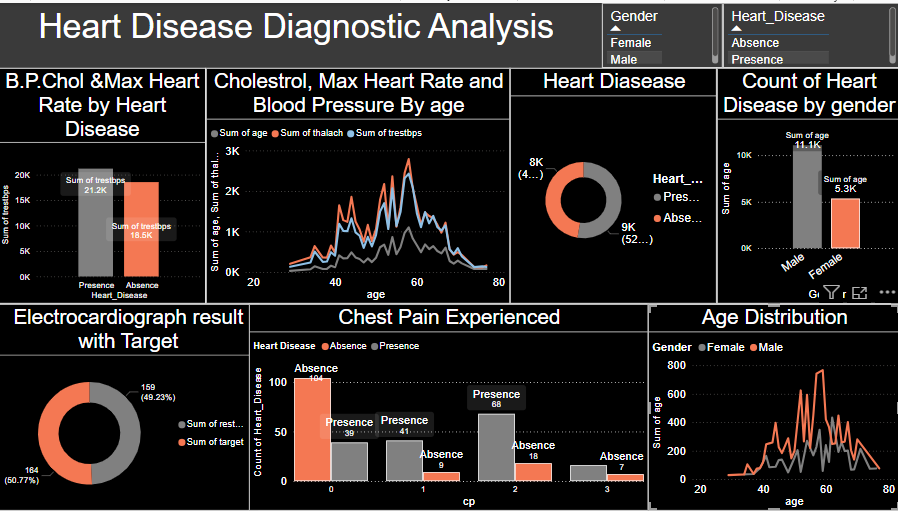

This screenshot's page, from the dashboard's own definition file:
{"tool":"powerbi","page":{"name":"Page 8","canvas":[1280,720],"ordinal":7},"visuals":[{"type":"textbox","box":[0,0,1280.2,92.2],"z":7000},{"type":"tableEx","fields":{"Values":["2 2-Heart_Disease_Diagnostic_Analysis.Gender"]},"box":[857.5,0,171.5,92.1],"z":7001},{"type":"tableEx","fields":{"Values":["2 2-Heart_Disease_Diagnostic_Analysis.Heart_Disease"]},"box":[1029,0,250.9,92.1],"z":7002},{"type":"donutChart","title":"Electrocardiograph result with Target","fields":{"Y":["Sum(2 2-Heart_Disease_Diagnostic_Analysis.restecg)","Sum(2 2-Heart_Disease_Diagnostic_Analysis.target)"]},"box":[0,426.6,369.9,293.4],"z":7003},{"type":"clusteredColumnChart","title":"B.P.Chol &Max Heart Rate by Heart Disease","fields":{"Category":["2 2-Heart_Disease_Diagnostic_Analysis.Heart_Disease"],"Y":["Sum(2 2-Heart_Disease_Diagnostic_Analysis.trestbps)"]},"box":[0,92.1,296.2,334.5],"z":7004},{"type":"lineChart","title":"Cholestrol, Max Heart Rate and Blood Pressure By age","fields":{"Y":["Sum(2 2-Heart_Disease_Diagnostic_Analysis.age)","Sum(2 2-Heart_Disease_Diagnostic_Analysis.thalach)","Sum(2 2-Heart_Disease_Diagnostic_Analysis.trestbps)"],"Category":["2 2-Heart_Disease_Diagnostic_Analysis.age"]},"box":[296.2,92.1,430.9,334.5],"z":7005},{"type":"columnChart","title":"Count of Heart Disease by gender","fields":{"Y":["Sum(2 2-Heart_Disease_Diagnostic_Analysis.age)"],"Category":["2 2-Heart_Disease_Diagnostic_Analysis.sex1"]},"box":[1020.5,92.1,259.4,334.5],"z":7006},{"type":"lineChart","title":"Age Distribution","fields":{"Category":["2 2-Heart_Disease_Diagnostic_Analysis.age"],"Y":["Sum(2 2-Heart_Disease_Diagnostic_Analysis.age)"],"Series":["2 2-Heart_Disease_Diagnostic_Analysis.sex1"]},"box":[922.7,426.6,347.2,293.4],"z":7007},{"type":"donutChart","title":"Heart Diasease","fields":{"Category":["2 2-Heart_Disease_Diagnostic_Analysis.Heart_Disease"],"Y":["Sum(2 2-Heart_Disease_Diagnostic_Analysis.age)"]},"box":[727.1,92.1,293.4,334.5],"z":7008},{"type":"clusteredColumnChart","title":"Chest Pain Experienced","fields":{"Category":["2 2-Heart_Disease_Diagnostic_Analysis.cp"],"Series":["2 2-Heart_Disease_Diagnostic_Analysis.Heart_Disease"],"Y":["CountNonNull(2 2-Heart_Disease_Diagnostic_Analysis.Heart_Disease)"]},"box":[357.2,426.6,565.5,293.4],"z":7009}]}

Visuals, with their boxes in screenshot pixels (x1, y1, x2, y2), scaled from the page's 1280x720 canvas onto the 898x511 screenshot:
textbox: (left=0, top=0, right=897, bottom=65)
tableEx - 2 2-Heart_Disease_Diagnostic_Analysis.Gender: (left=602, top=0, right=722, bottom=65)
tableEx - 2 2-Heart_Disease_Diagnostic_Analysis.Heart_Disease: (left=722, top=0, right=897, bottom=65)
"Electrocardiograph result with Target" donutChart: (left=0, top=303, right=260, bottom=510)
"B.P.Chol &Max Heart Rate by Heart Disease" clusteredColumnChart: (left=0, top=65, right=208, bottom=303)
"Cholestrol, Max Heart Rate and Blood Pressure By age" lineChart: (left=208, top=65, right=510, bottom=303)
"Count of Heart Disease by gender" columnChart: (left=716, top=65, right=897, bottom=303)
"Age Distribution" lineChart: (left=647, top=303, right=891, bottom=510)
"Heart Diasease" donutChart: (left=510, top=65, right=716, bottom=303)
"Chest Pain Experienced" clusteredColumnChart: (left=251, top=303, right=647, bottom=510)
